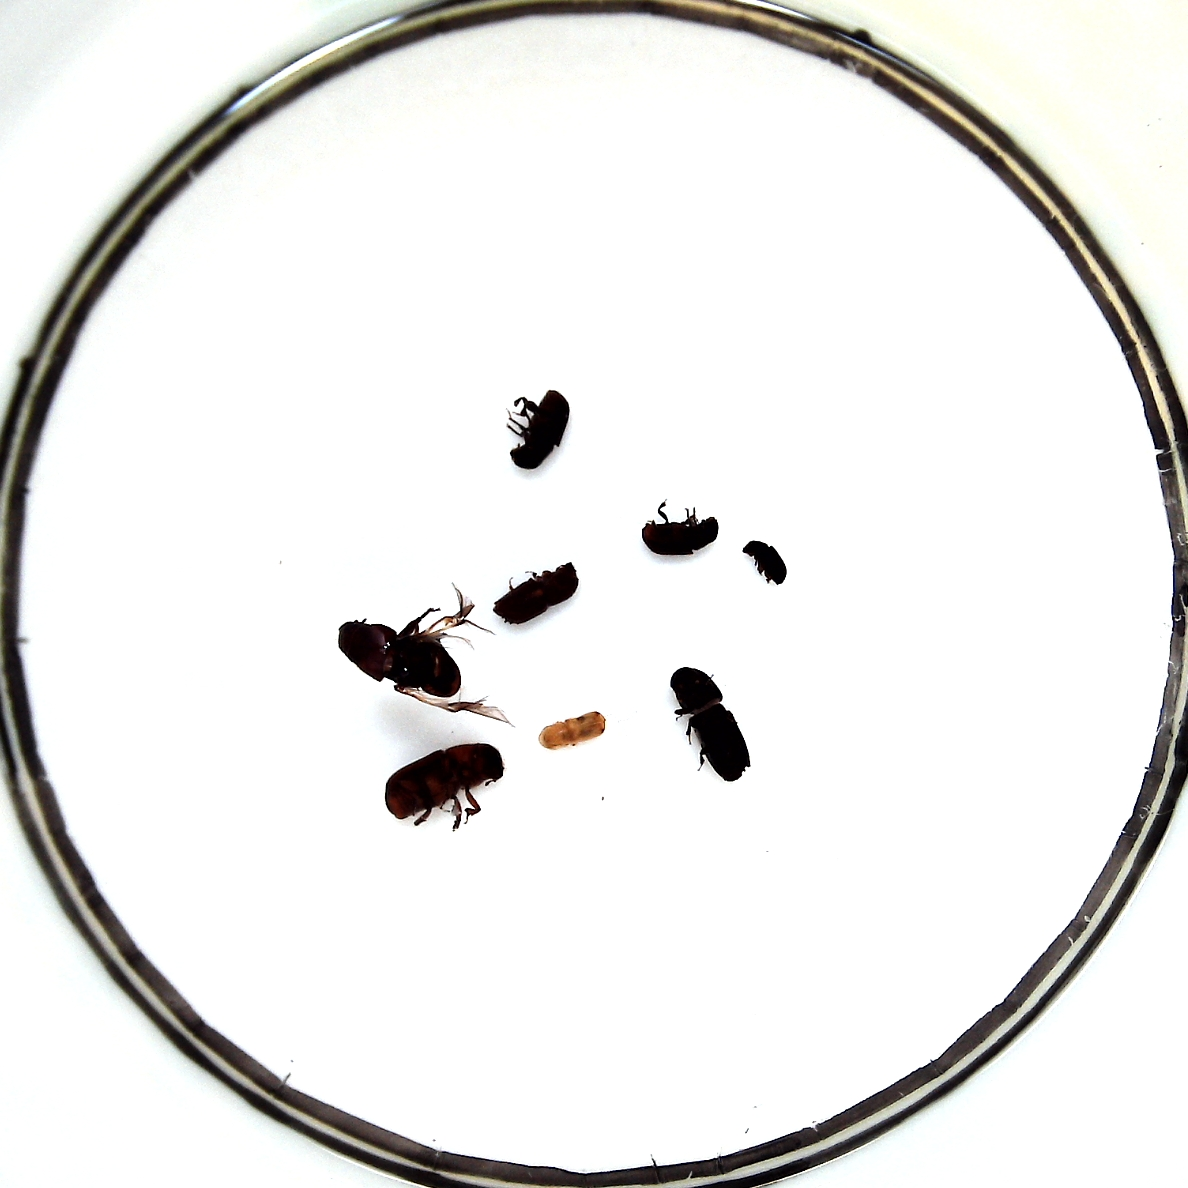Boerner: (672, 665, 752, 782)
Leconte: (336, 618, 462, 698), (384, 742, 504, 820)
acuminatus: (742, 539, 787, 585)
armandi: (510, 389, 570, 470), (641, 515, 719, 556)
coleoptera: (539, 710, 607, 748)
linnaeus: (493, 562, 578, 624)
